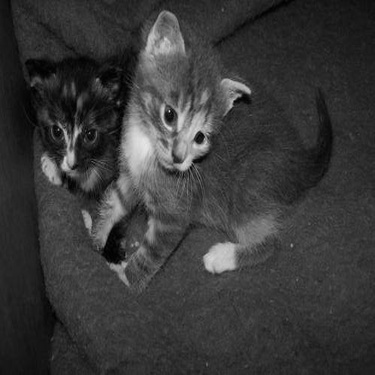cat: (87, 7, 342, 269), (5, 34, 133, 267)
